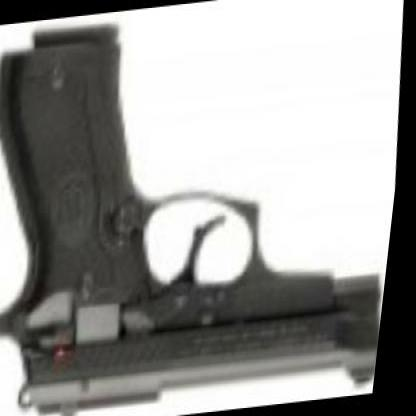pistol: (0, 3, 415, 414)
